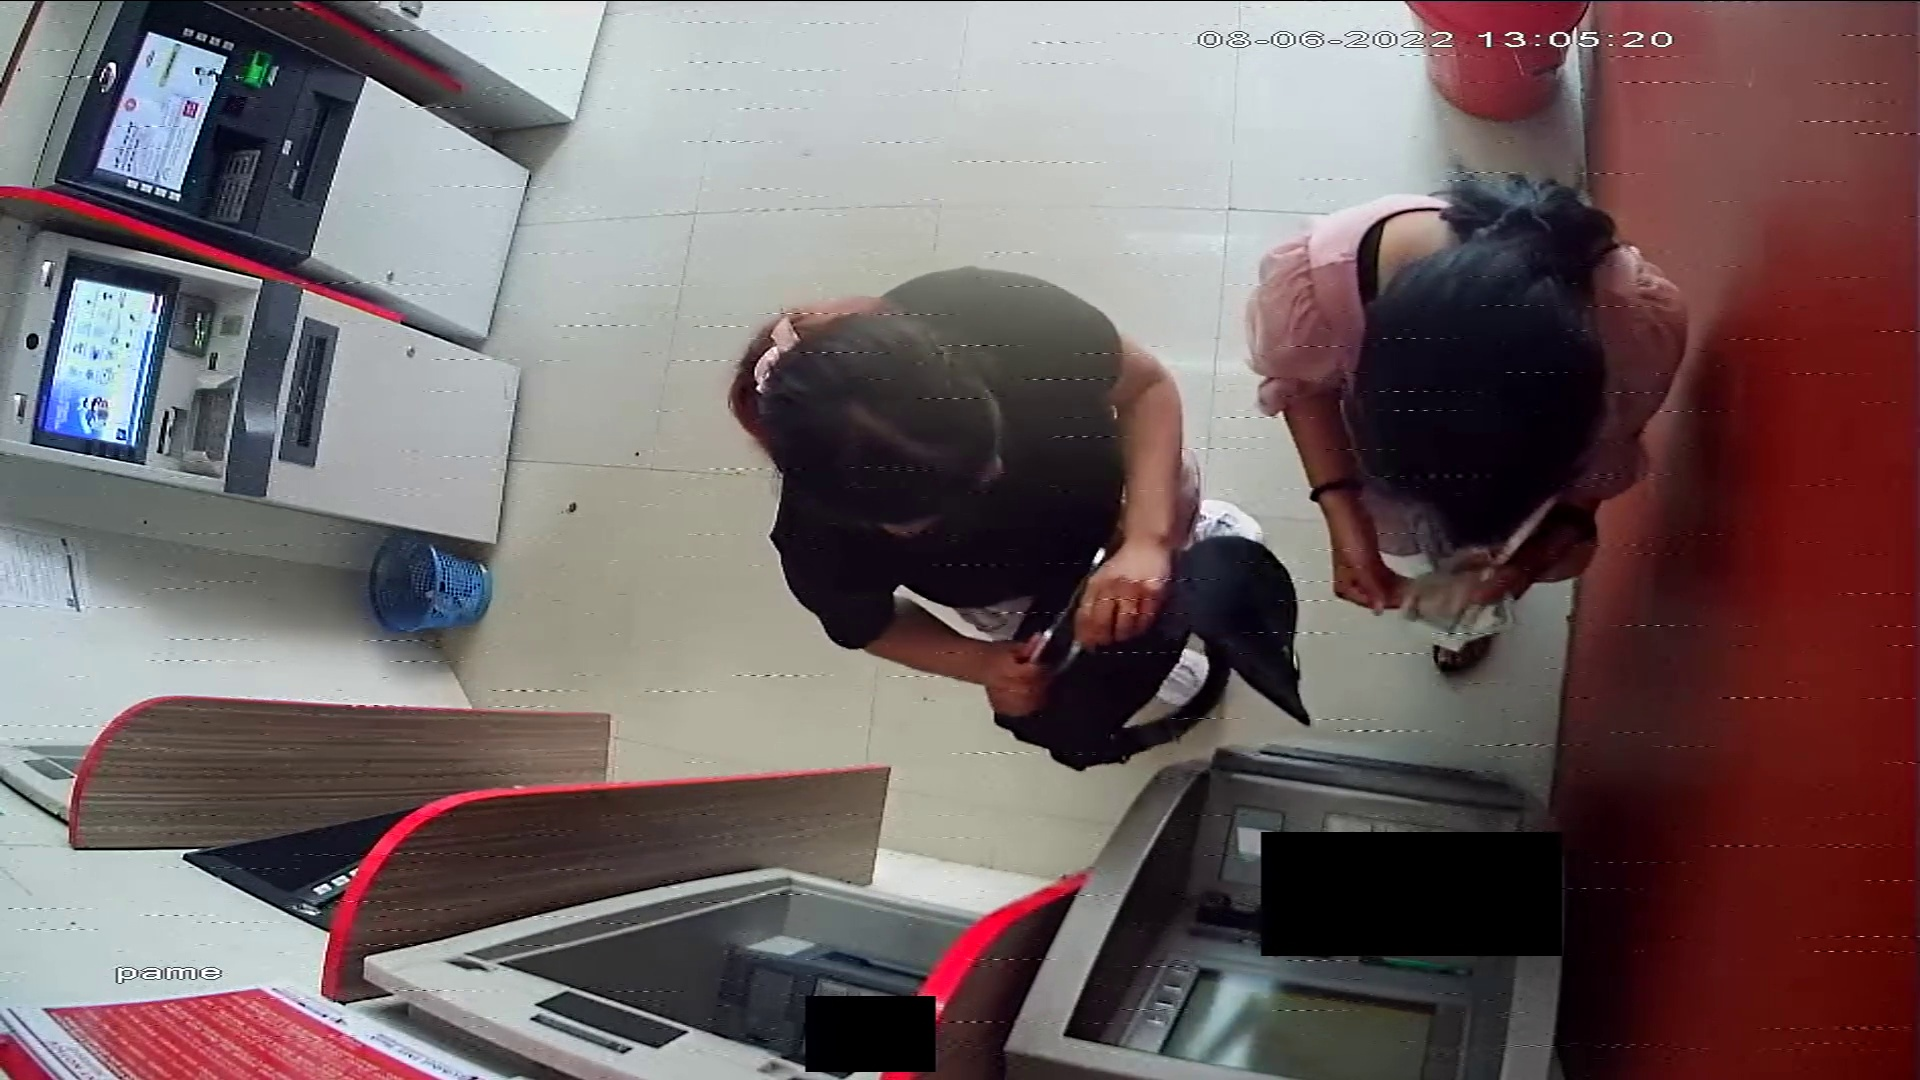person: (738, 265, 1268, 748), (1244, 183, 1688, 671)
